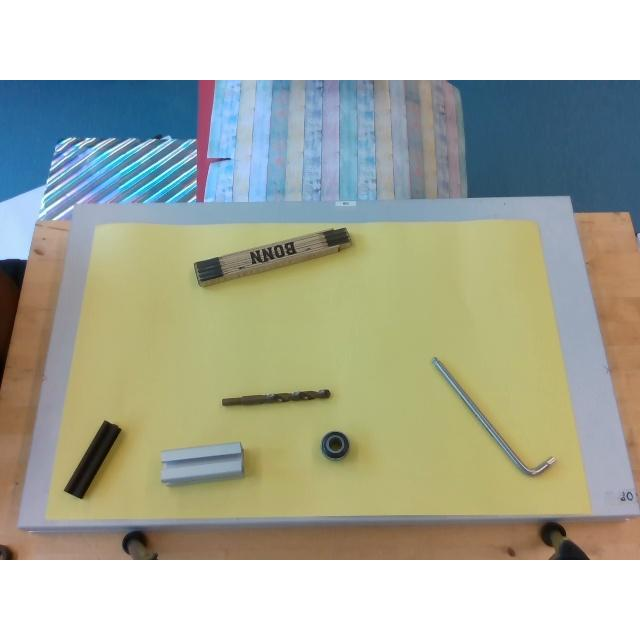AllenKey: (432, 356, 556, 476)
Bearing2: (321, 431, 349, 459)
Drill: (222, 389, 331, 405)
F20_20_B: (64, 422, 120, 498)
S40_40_G: (161, 441, 243, 484)
